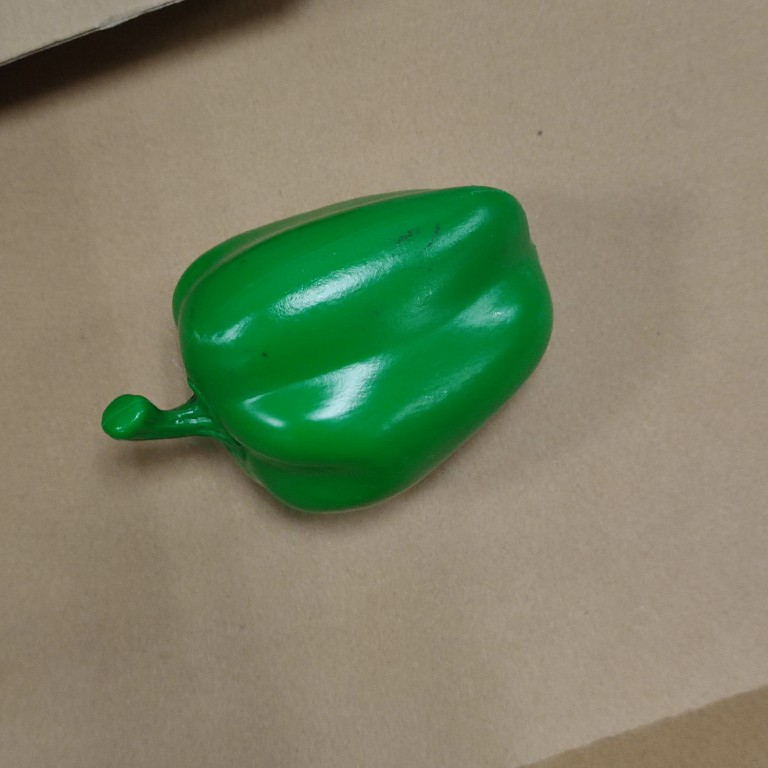fruit_pepper: (97, 181, 558, 522)
